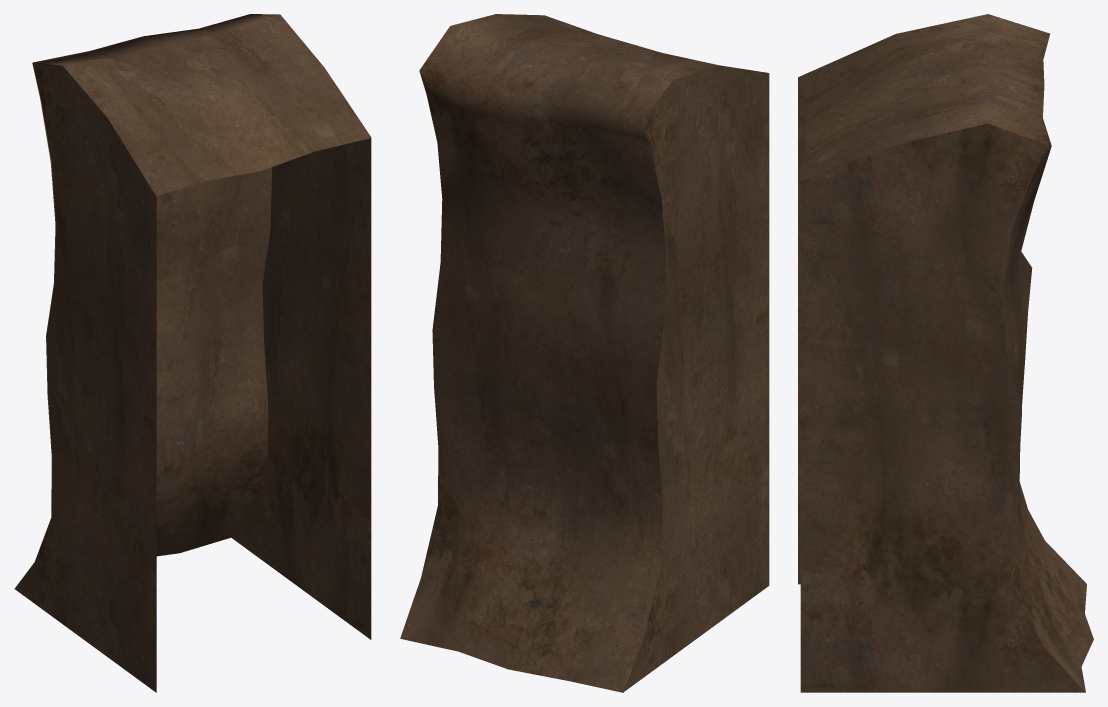
Rendered from S7U_EarthBank_1m_LOD1.fbx.
3 views of the same model, side by side, from view 1: azimuth 30°, elevation 25°; view 2: azimuth 150°, elevation 25°; view 3: azimuth 270°, elevation 25° (orthographic). The views are drawn at different scales.
Parts seen in each view (by area): view 1: S7U_EarthBank_1m_LOD1; view 2: S7U_EarthBank_1m_LOD1; view 3: S7U_EarthBank_1m_LOD1.
Boxes of the visible parts, bbox=[...] form: S7U_EarthBank_1m_LOD1: bbox=[14, 14, 371, 692]; S7U_EarthBank_1m_LOD1: bbox=[400, 14, 769, 692]; S7U_EarthBank_1m_LOD1: bbox=[798, 14, 1093, 692].
Size of the model in its own units: 1 by 2.47 by 1.16.
